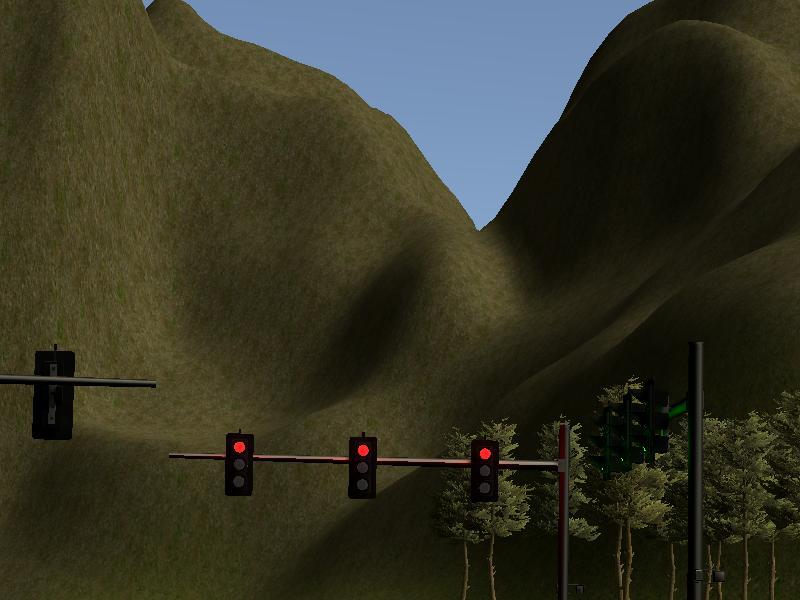Red: (224, 433, 253, 496), (471, 438, 499, 503), (349, 436, 375, 499)
